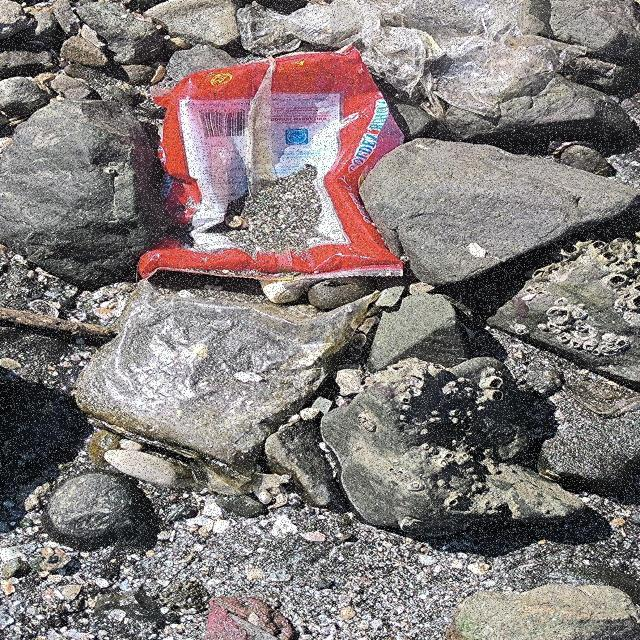plastic_waste: (136, 43, 410, 282)
